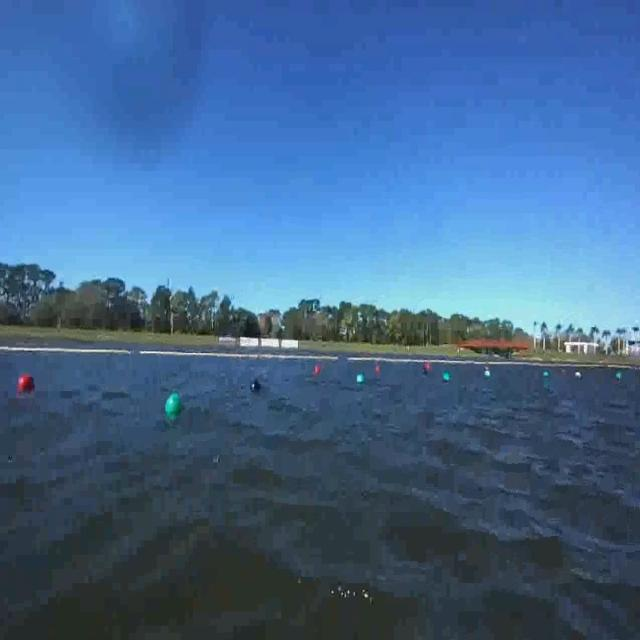black-buoy: (252, 379, 261, 393)
green-buoy: (165, 395, 181, 420), (357, 372, 364, 383)
red-buoy: (20, 376, 36, 395)
